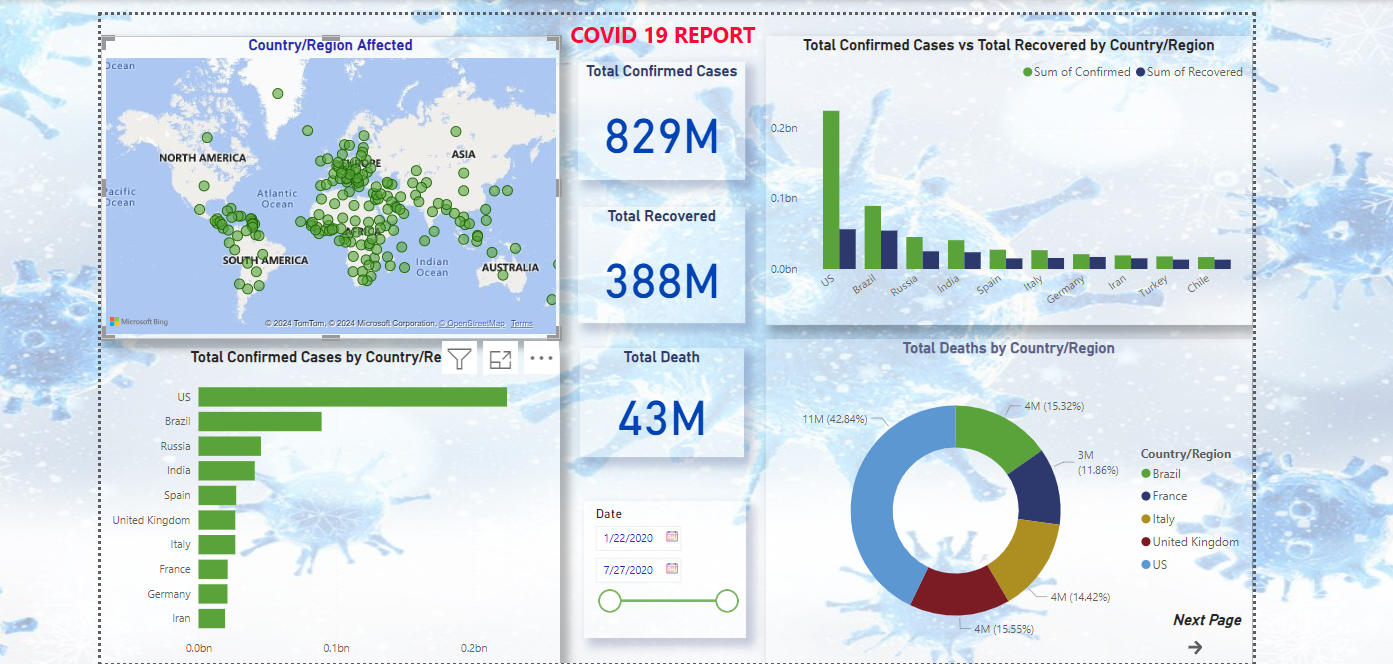

The page's visual inventory and layout, read from the dashboard file:
{"tool":"powerbi","page":{"name":"Report1","canvas":[1280,720],"ordinal":0},"visuals":[{"type":"map","title":"Country/Region Affected","fields":{"Category":["covid_19_clean_complete.Country/Region"]},"box":[0,22.7,510.1,336.8],"z":0},{"type":"card","title":"Total Death","fields":{"Values":["Sum(covid_19_clean_complete.Deaths)"]},"box":[531.1,369.2,183,121.4],"z":1000},{"type":"card","title":"Total Recovered","fields":{"Values":["Sum(covid_19_clean_complete.Recovered)"]},"box":[529.5,213.7,186.2,129.5],"z":2000},{"type":"barChart","title":"Total Confirmed Cases by Country/Region","fields":{"Y":["Sum(covid_19_clean_complete.Confirmed)"],"Category":["covid_19_clean_complete.Country/Region"]},"box":[0,369.2,510.1,351.4],"z":3000},{"type":"donutChart","title":"Total Deaths by Country/Region","fields":{"Y":["Sum(covid_19_clean_complete.Deaths)"],"Series":["covid_19_clean_complete.Country/Region"]},"box":[738.4,359.5,540.8,361.1],"z":4000},{"type":"clusteredColumnChart","title":"Total Confirmed Cases vs Total Recovered by Country/Region","fields":{"Category":["full_grouped.Country/Region"],"Y":["Sum(full_grouped.Confirmed)","Sum(full_grouped.Recovered)"]},"box":[738.4,22.7,540.8,320.6],"z":5000},{"type":"slicer","fields":{"Values":["covid_19_clean_complete.Date"]},"box":[536,539.2,179.7,152.2],"z":6000},{"type":"actionButton","title":"Next Page","box":[1177.2,662.3,103.6,58.3],"z":7000},{"type":"textbox","box":[510.1,0,228.3,45.3],"z":8000},{"type":"card","title":"Total Confirmed Cases","fields":{"Values":["Sum(covid_19_clean_complete.Confirmed)"]},"box":[529.5,51.8,186.2,131.2],"z":9000}]}

Visuals, with their boxes on the page's 1280x720 design canvas (x1, y1, x2, y2). These are canvas units, not pixel positions in the 1393x664 screenshot, which may show the page scaled, cropped or inside an application window:
"Country/Region Affected" map: 0,23,510,360
"Total Death" card: 531,369,714,491
"Total Recovered" card: 530,214,716,343
"Total Confirmed Cases by Country/Region" barChart: 0,369,510,721
"Total Deaths by Country/Region" donutChart: 738,360,1279,721
"Total Confirmed Cases vs Total Recovered by Country/Region" clusteredColumnChart: 738,23,1279,343
slicer - covid_19_clean_complete.Date: 536,539,716,691
"Next Page" actionButton: 1177,662,1281,721
textbox: 510,0,738,45
"Total Confirmed Cases" card: 530,52,716,183
